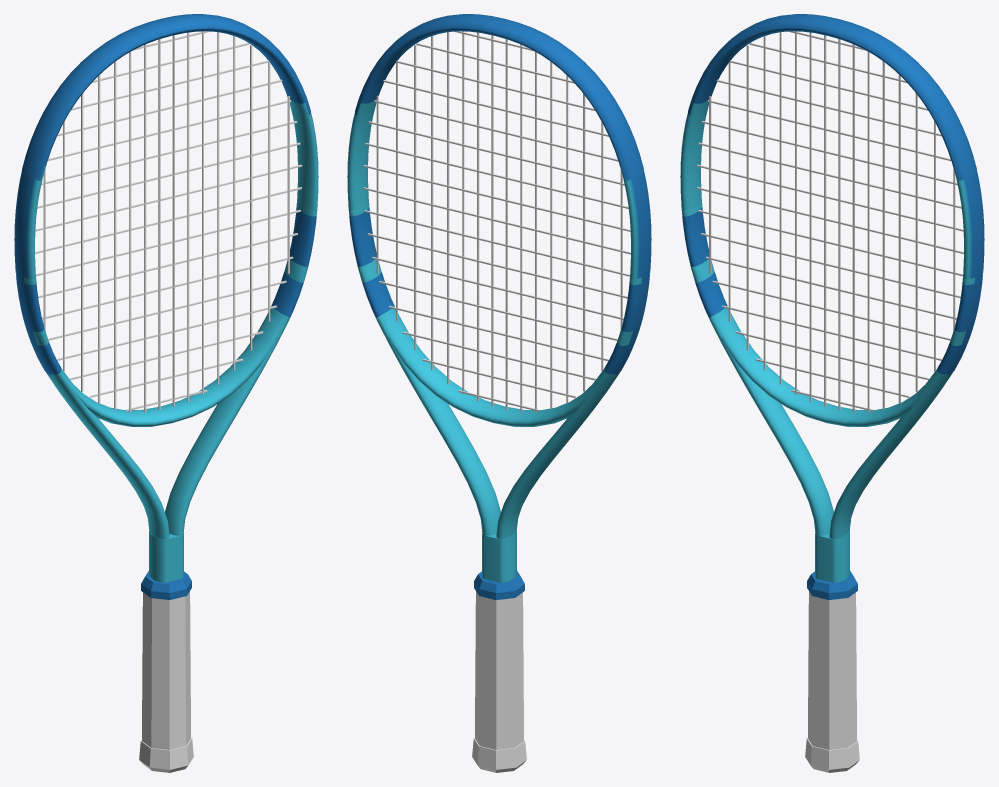
The model's file is babolat-pure-drive-junior-25-light-blue-2025.glb.
The picture shows the model from 3 angles, left to right: view 1: azimuth 30°, elevation 25°; view 2: azimuth 150°, elevation 25°; view 3: azimuth 330°, elevation 25°; orthographic projection.
Parts seen in each view (by area): view 1: frame, strings_mains, strings_crosses, grip, bumper, grommets, butt_cap, collar; view 2: frame, strings_mains, strings_crosses, grip, bumper, grommets, butt_cap, collar; view 3: frame, strings_mains, strings_crosses, grip, bumper, grommets, butt_cap, collar.
Part boxes in pixels (left/top/right/bottom): frame: left=14, top=28, right=318, bottom=582; strings_mains: left=43, top=31, right=289, bottom=412; strings_crosses: left=35, top=31, right=302, bottom=411; grip: left=142, top=591, right=190, bottom=749; bumper: left=22, top=14, right=310, bottom=180; grommets: left=15, top=172, right=51, bottom=375; butt_cap: left=139, top=737, right=193, bottom=772; collar: left=141, top=571, right=191, bottom=599; frame: left=347, top=28, right=651, bottom=582; strings_mains: left=376, top=31, right=622, bottom=411; strings_crosses: left=363, top=31, right=630, bottom=411; grip: left=475, top=591, right=523, bottom=749; bumper: left=355, top=14, right=643, bottom=180; grommets: left=614, top=172, right=650, bottom=375; butt_cap: left=472, top=737, right=526, bottom=772; collar: left=474, top=571, right=524, bottom=599; frame: left=680, top=28, right=984, bottom=582; strings_mains: left=709, top=31, right=955, bottom=412; strings_crosses: left=696, top=31, right=963, bottom=411; grip: left=808, top=591, right=856, bottom=749; bumper: left=688, top=14, right=976, bottom=180; grommets: left=947, top=172, right=983, bottom=375; butt_cap: left=805, top=737, right=859, bottom=772; collar: left=807, top=571, right=857, bottom=599.
Bounding box in the file's own units: 0.2653 × 0.6353 × 0.0396.
